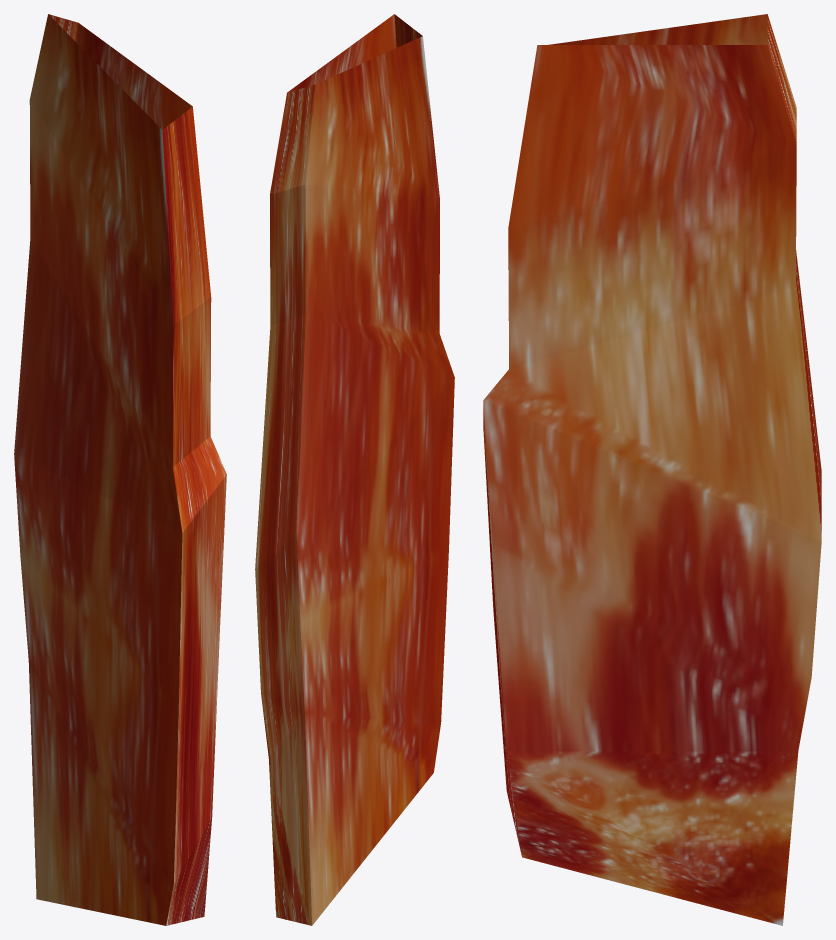
File: BACON2.fbx
3 renders of one model, left to right at view 1: azimuth 30°, elevation 25°; view 2: azimuth 150°, elevation 25°; view 3: azimuth 270°, elevation 25°, orthographic. The views are drawn at different scales.
Parts seen in each view (by area): view 1: Cube; view 2: Cube; view 3: Cube.
Boxes of the visible parts, box(x1,y1,x2,y2) form: Cube: box(14, 14, 226, 925); Cube: box(255, 14, 454, 925); Cube: box(483, 14, 821, 925).
Bounding box in the file's own units: 16.51 × 315 × 108.
